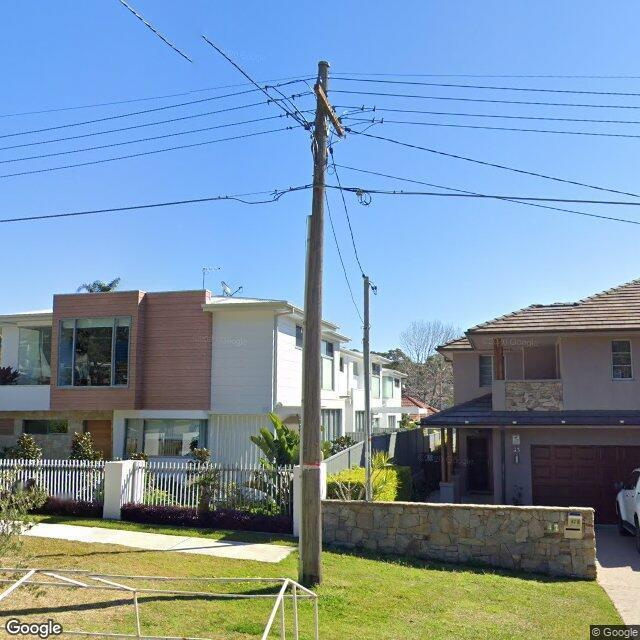crossarm: (313, 82, 345, 138)
steel-pole: (362, 274, 372, 502)
timber-pole: (297, 60, 331, 586)
